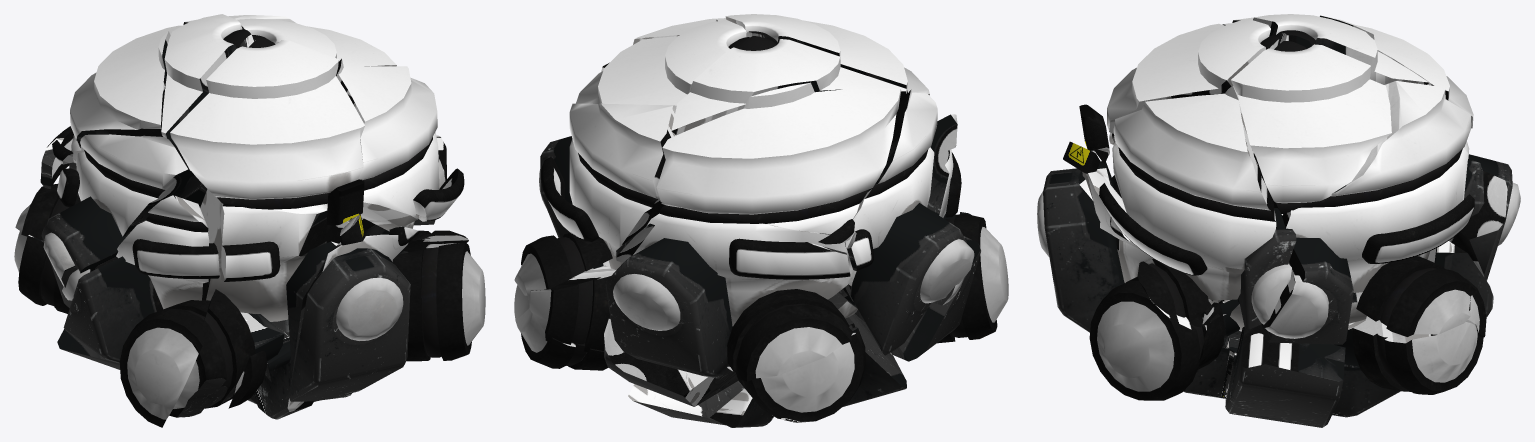
The model's file is Gravity_generator_LoD_3 1.fbx.
3 views of the same model, side by side, from view 1: azimuth 30°, elevation 25°; view 2: azimuth 150°, elevation 25°; view 3: azimuth 270°, elevation 25° (orthographic). The views are drawn at different scales.
Visible parts, largest first — view 1: Gravity_generator_LoD_0_fracturepart11_2, Gravity_generator_LoD_0_fracturepart6_6, Gravity_generator_LoD_0_fracturepart14_4, Gravity_generator_LoD_0_fracturepart8_5, Gravity_generator_LoD_0_fracturepart4_3, Gravity_generator_LoD_0_fracturepart14_3, Gravity_generator_LoD_0_fracturepart2, Gravity_generator_LoD_0_fracturepart12_2, Gravity_generator_LoD_0_fracturepart8, Gravity_generator_LoD_0_fracturepart12_3, Gravity_generator_LoD_0_fracturepart5, Gravity_generator_LoD_0_fracturepart12_4 (+18 smaller); view 2: Gravity_generator_LoD_0_fracturepart2, Gravity_generator_LoD_0_fracturepart3_5, Gravity_generator_LoD_0_fracturepart1_2, Gravity_generator_LoD_0_fracturepart5, Gravity_generator_LoD_0_fracturepart4_2, Gravity_generator_LoD_0_fracturepart1, Gravity_generator_LoD_0_fracturepart13, Gravity_generator_LoD_0_fracturepart1_4, Gravity_generator_LoD_0_fracturepart4_3, Gravity_generator_LoD_0_fracturepart9, Gravity_generator_LoD_0_fracturepart11_2, Gravity_generator_LoD_0_fracturepart7_2 (+18 smaller); view 3: Gravity_generator_LoD_0_fracturepart6_6, Gravity_generator_LoD_0_fracturepart13, Gravity_generator_LoD_0_fracturepart3_5, Gravity_generator_LoD_0_fracturepart10_4, Gravity_generator_LoD_0_fracturepart14_3, Gravity_generator_LoD_0_fracturepart11_2, Gravity_generator_LoD_0_fracturepart14_4, Gravity_generator_LoD_0_fracturepart10_3, Gravity_generator_LoD_0_fracturepart3_2, Gravity_generator_LoD_0_fracturepart5, Gravity_generator_LoD_0_fracturepart3_3, Gravity_generator_LoD_0_fracturepart1_2 (+16 smaller).
Part boxes in pixels (left/top/right/bottom): Gravity_generator_LoD_0_fracturepart11_2: left=170, top=37, right=364, bottom=214; Gravity_generator_LoD_0_fracturepart6_6: left=336, top=58, right=439, bottom=231; Gravity_generator_LoD_0_fracturepart14_4: left=285, top=248, right=410, bottom=401; Gravity_generator_LoD_0_fracturepart8_5: left=200, top=189, right=390, bottom=321; Gravity_generator_LoD_0_fracturepart4_3: left=76, top=134, right=207, bottom=236; Gravity_generator_LoD_0_fracturepart14_3: left=393, top=242, right=485, bottom=361; Gravity_generator_LoD_0_fracturepart2: left=70, top=25, right=181, bottom=162; Gravity_generator_LoD_0_fracturepart12_2: left=119, top=300, right=210, bottom=427; Gravity_generator_LoD_0_fracturepart8: left=169, top=289, right=284, bottom=417; Gravity_generator_LoD_0_fracturepart12_3: left=63, top=256, right=162, bottom=362; Gravity_generator_LoD_0_fracturepart5: left=161, top=14, right=253, bottom=147; Gravity_generator_LoD_0_fracturepart12_4: left=116, top=195, right=209, bottom=309; Gravity_generator_LoD_0_fracturepart2: left=656, top=82, right=901, bottom=234; Gravity_generator_LoD_0_fracturepart3_5: left=569, top=103, right=676, bottom=255; Gravity_generator_LoD_0_fracturepart1_2: left=605, top=238, right=732, bottom=378; Gravity_generator_LoD_0_fracturepart5: left=671, top=36, right=906, bottom=135; Gravity_generator_LoD_0_fracturepart4_2: left=848, top=203, right=966, bottom=355; Gravity_generator_LoD_0_fracturepart1: left=727, top=289, right=852, bottom=381; Gravity_generator_LoD_0_fracturepart13: left=576, top=19, right=749, bottom=105; Gravity_generator_LoD_0_fracturepart1_4: left=633, top=202, right=848, bottom=326; Gravity_generator_LoD_0_fracturepart4_3: left=844, top=89, right=937, bottom=286; Gravity_generator_LoD_0_fracturepart9: left=735, top=317, right=865, bottom=422; Gravity_generator_LoD_0_fracturepart11_2: left=725, top=14, right=929, bottom=95; Gravity_generator_LoD_0_fracturepart7_2: left=528, top=265, right=615, bottom=351; Gravity_generator_LoD_0_fracturepart6_6: left=1112, top=85, right=1276, bottom=300; Gravity_generator_LoD_0_fracturepart13: left=1231, top=41, right=1391, bottom=215; Gravity_generator_LoD_0_fracturepart3_5: left=1273, top=81, right=1471, bottom=292; Gravity_generator_LoD_0_fracturepart10_4: left=1183, top=324, right=1400, bottom=427; Gravity_generator_LoD_0_fracturepart14_3: left=1089, top=276, right=1206, bottom=400; Gravity_generator_LoD_0_fracturepart11_2: left=1107, top=19, right=1279, bottom=144; Gravity_generator_LoD_0_fracturepart14_4: left=1043, top=168, right=1124, bottom=332; Gravity_generator_LoD_0_fracturepart10_3: left=1334, top=316, right=1483, bottom=394; Gravity_generator_LoD_0_fracturepart3_2: left=1356, top=256, right=1476, bottom=336; Gravity_generator_LoD_0_fracturepart5: left=1222, top=14, right=1429, bottom=84; Gravity_generator_LoD_0_fracturepart3_3: left=1261, top=237, right=1353, bottom=344; Gravity_generator_LoD_0_fracturepart1_2: left=1427, top=154, right=1512, bottom=280.
Bounding box in the file's own units: 2.59e+07 × 2.22e+07 × 2.69e+07.
